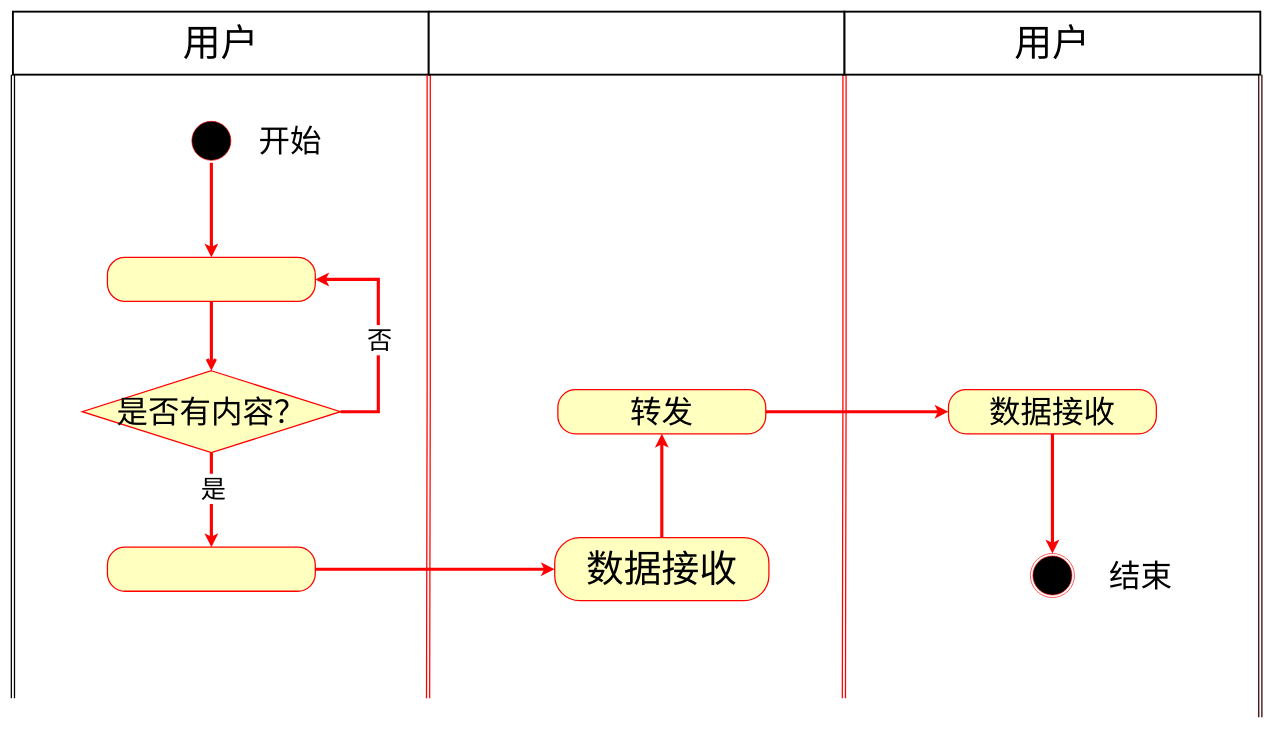
The diagram is 1273 pixels wide and 729 high, and some of its shapes have lost their labels. Here are the shapes that lost their labels. From the top down, the centre of each, then its label:
[636,42]: 服务器
[211,279]: 输入消息
[211,569]: 发送
